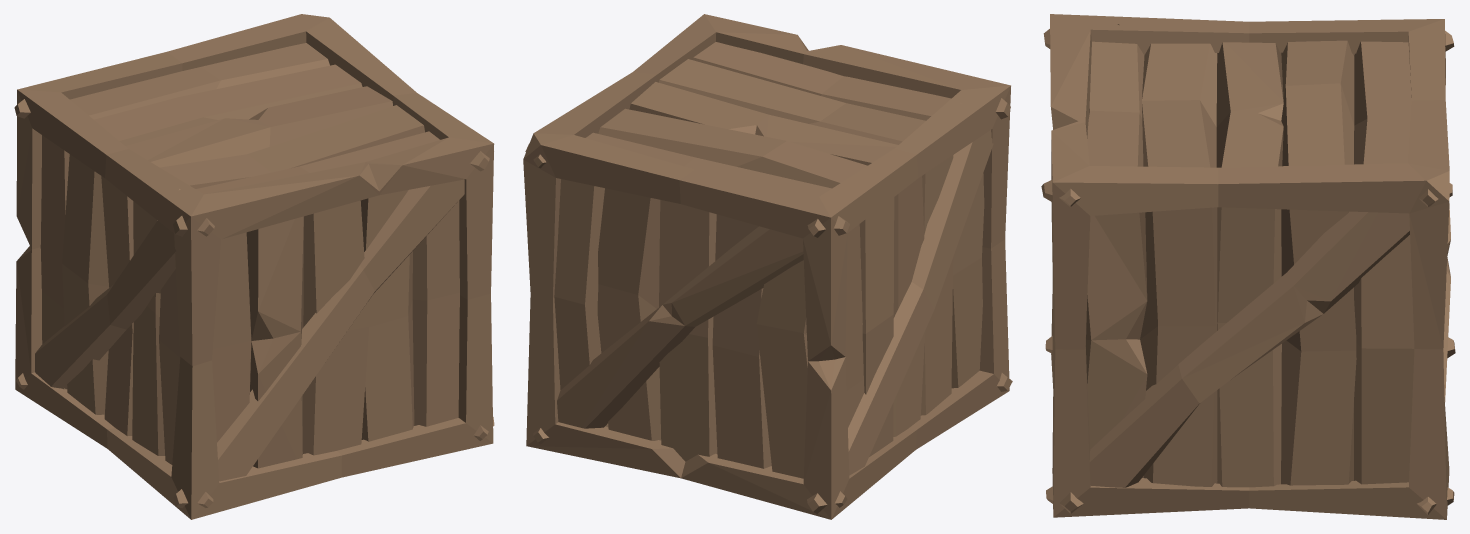
Rendered from Crate01.fbx.
The picture shows the model from 3 angles, left to right: view 1: azimuth 30°, elevation 25°; view 2: azimuth 150°, elevation 25°; view 3: azimuth 270°, elevation 25°; orthographic projection. The views are drawn at different scales.
Parts seen in each view (by area): view 1: Crate01; view 2: Crate01; view 3: Crate01.
Boxes of the visible parts, x1=… form: Crate01: x1=14, y1=14, x2=494, y2=519; Crate01: x1=523, y1=14, x2=1012, y2=519; Crate01: x1=1041, y1=14, x2=1455, y2=519.
Size of the model in its own units: 2.68 by 2.47 by 2.7.
